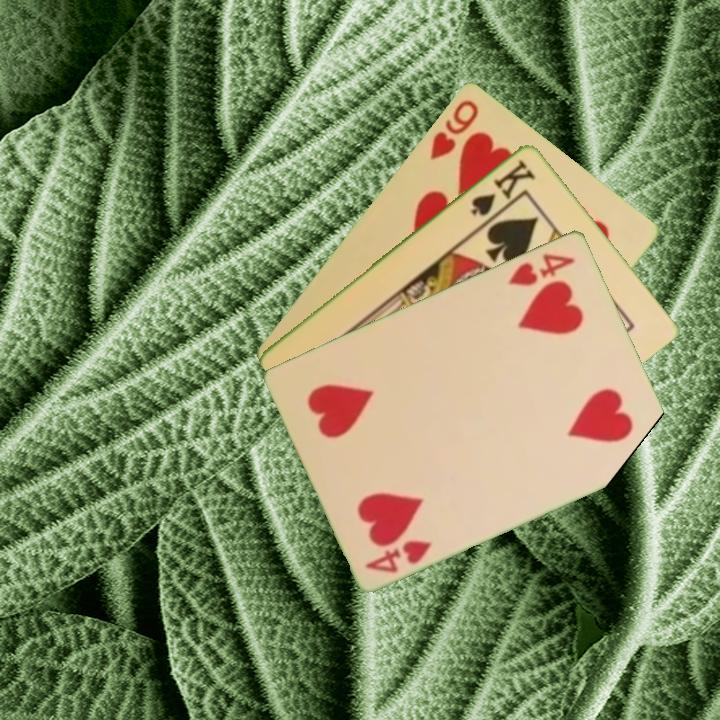4h: (505, 249, 579, 289), (361, 536, 435, 575)
9h: (426, 95, 482, 163)
Ks: (467, 154, 539, 219)
